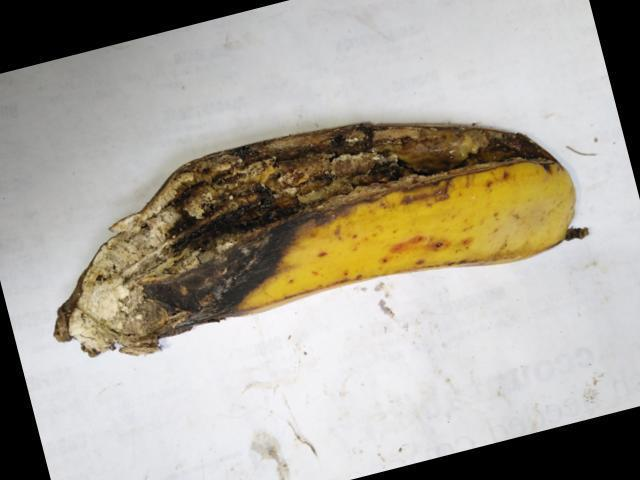rotten: (35, 86, 553, 374)
